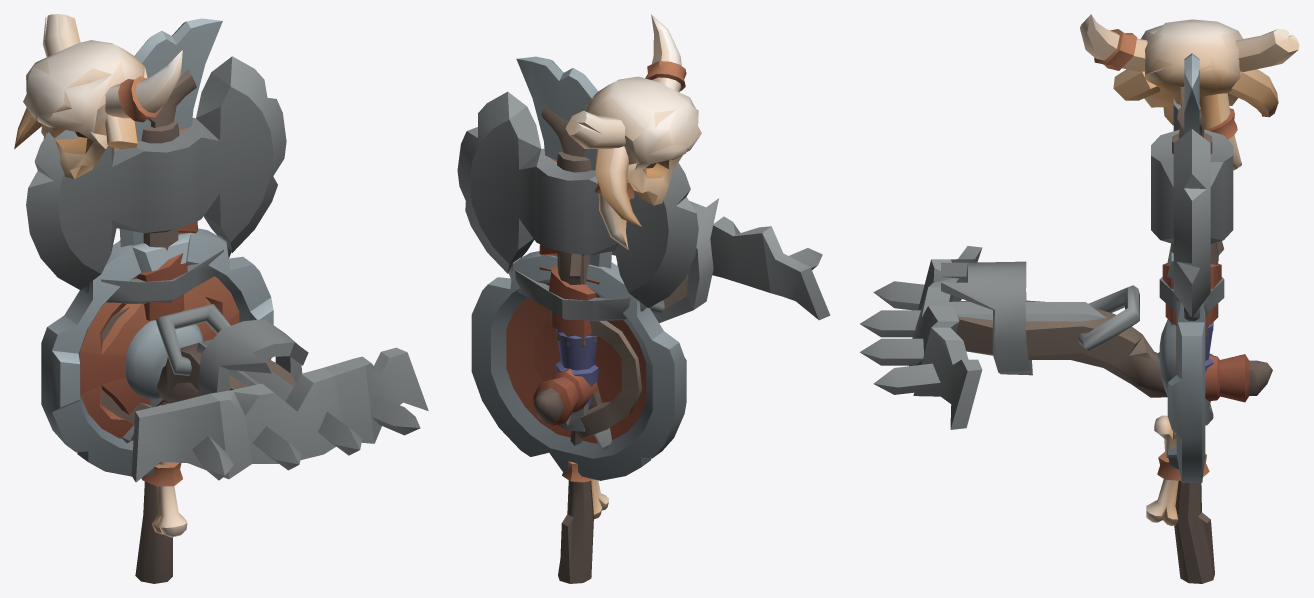
File: weapons.glb
The picture shows the model from 3 angles, left to right: view 1: azimuth 30°, elevation 25°; view 2: azimuth 150°, elevation 25°; view 3: azimuth 270°, elevation 25°; orthographic projection. The views are drawn at different scales.
Visible parts, largest first — view 1: Skeleton_Axe, Skeleton_Crossbow, Skeleton_Shield_Small_A, Skeleton_Staff, Skeleton_Blade; view 2: Skeleton_Axe, Skeleton_Shield_Small_A, Skeleton_Staff, Skeleton_Crossbow, Skeleton_Blade; view 3: Skeleton_Crossbow, Skeleton_Staff, Skeleton_Axe, Skeleton_Shield_Small_A, Skeleton_Blade.
Boxes of the visible parts, x1,y1,x2,y2 form: Skeleton_Axe: (26, 56, 286, 407); Skeleton_Crossbow: (131, 304, 428, 482); Skeleton_Shield_Small_A: (41, 228, 273, 476); Skeleton_Staff: (14, 14, 196, 583); Skeleton_Blade: (82, 18, 231, 443); Skeleton_Axe: (457, 91, 698, 431); Skeleton_Shield_Small_A: (471, 251, 686, 480); Skeleton_Staff: (541, 14, 701, 583); Skeleton_Crossbow: (533, 198, 830, 425); Skeleton_Blade: (508, 56, 646, 450); Skeleton_Crossbow: (860, 246, 1272, 429); Skeleton_Staff: (1080, 14, 1299, 583); Skeleton_Axe: (1151, 99, 1233, 425); Skeleton_Shield_Small_A: (1159, 245, 1205, 482); Skeleton_Blade: (1159, 53, 1224, 320).
Size of the model in its own units: 1.11 by 2.1 by 1.51.
1 material, 1 textured.
